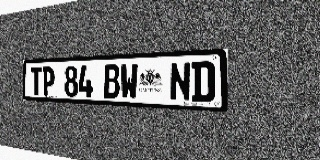4: (78, 65, 93, 98)
8: (64, 66, 78, 97)
B: (104, 64, 120, 99)
D: (192, 61, 215, 103)
N: (170, 62, 191, 102)
P: (42, 66, 54, 96)
T: (31, 67, 42, 96)
W: (120, 63, 138, 99)
